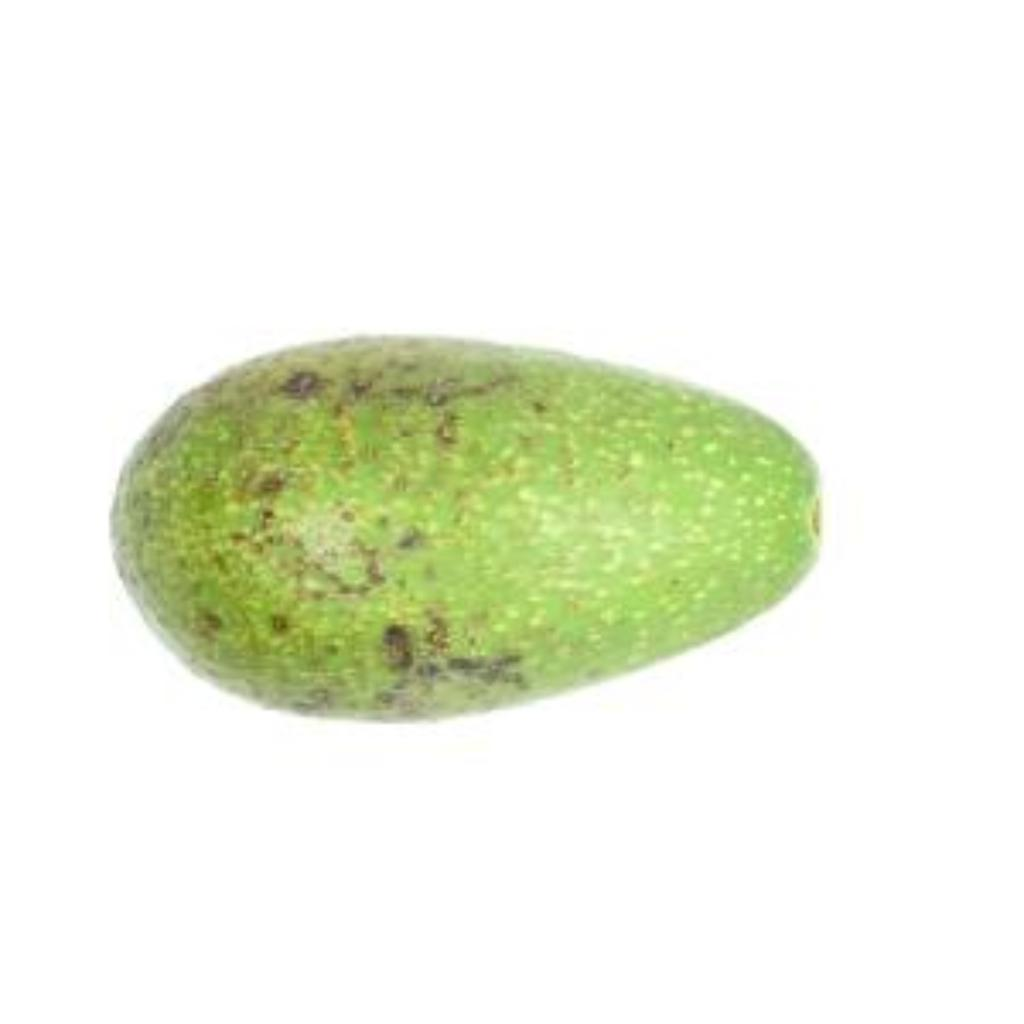cercospora_spot: (80, 324, 858, 730)
